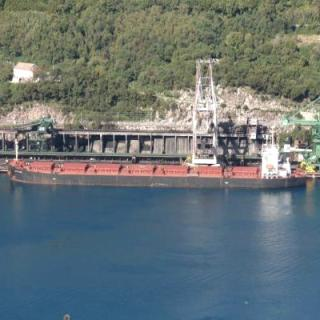Bulk Carrier: (0, 71, 311, 187)
